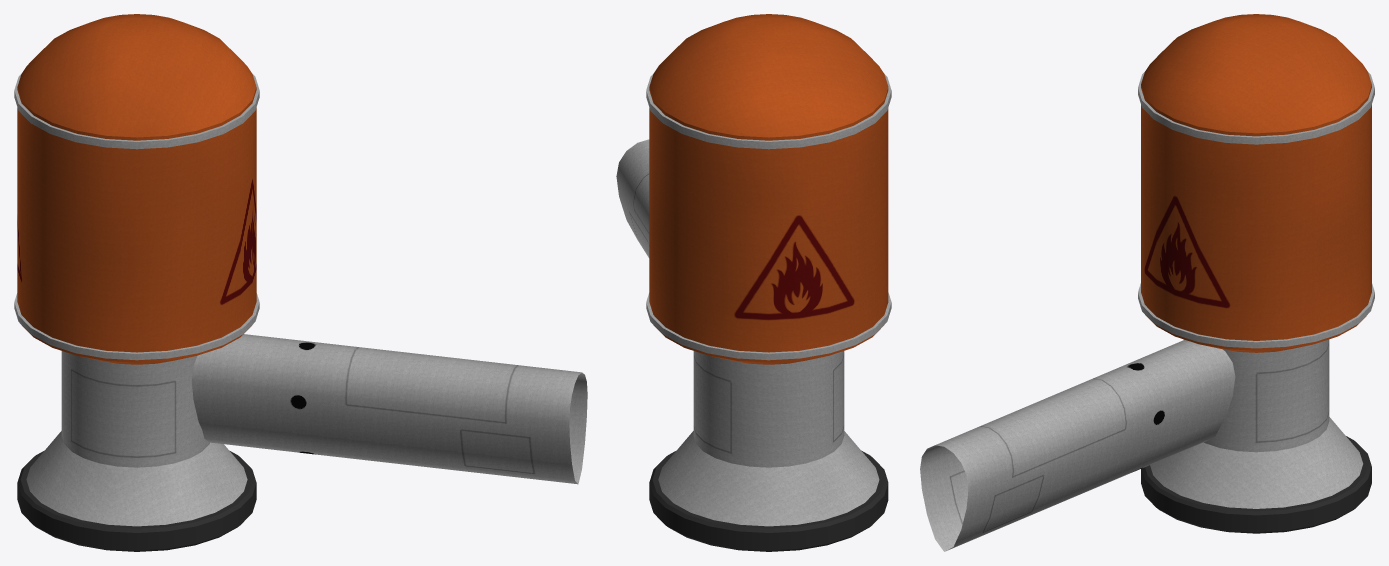
File: SpaceCrane-tank.fbx
3 views of the same model, side by side, from view 1: azimuth 30°, elevation 25°; view 2: azimuth 150°, elevation 25°; view 3: azimuth 270°, elevation 25° (orthographic). The views are drawn at different scales.
Visible parts, largest first — view 1: tank, arm; view 2: tank, arm; view 3: tank, arm.
Boxes of the visible parts, x1,y1,x2,y2 form: tank: (14, 14, 259, 551); arm: (191, 334, 587, 484); tank: (646, 14, 891, 551); arm: (616, 139, 649, 257); tank: (1138, 14, 1374, 533); arm: (920, 339, 1235, 551).
Size of what is drawn, in the model's own units: 2.66 by 2.93 by 2.66.
